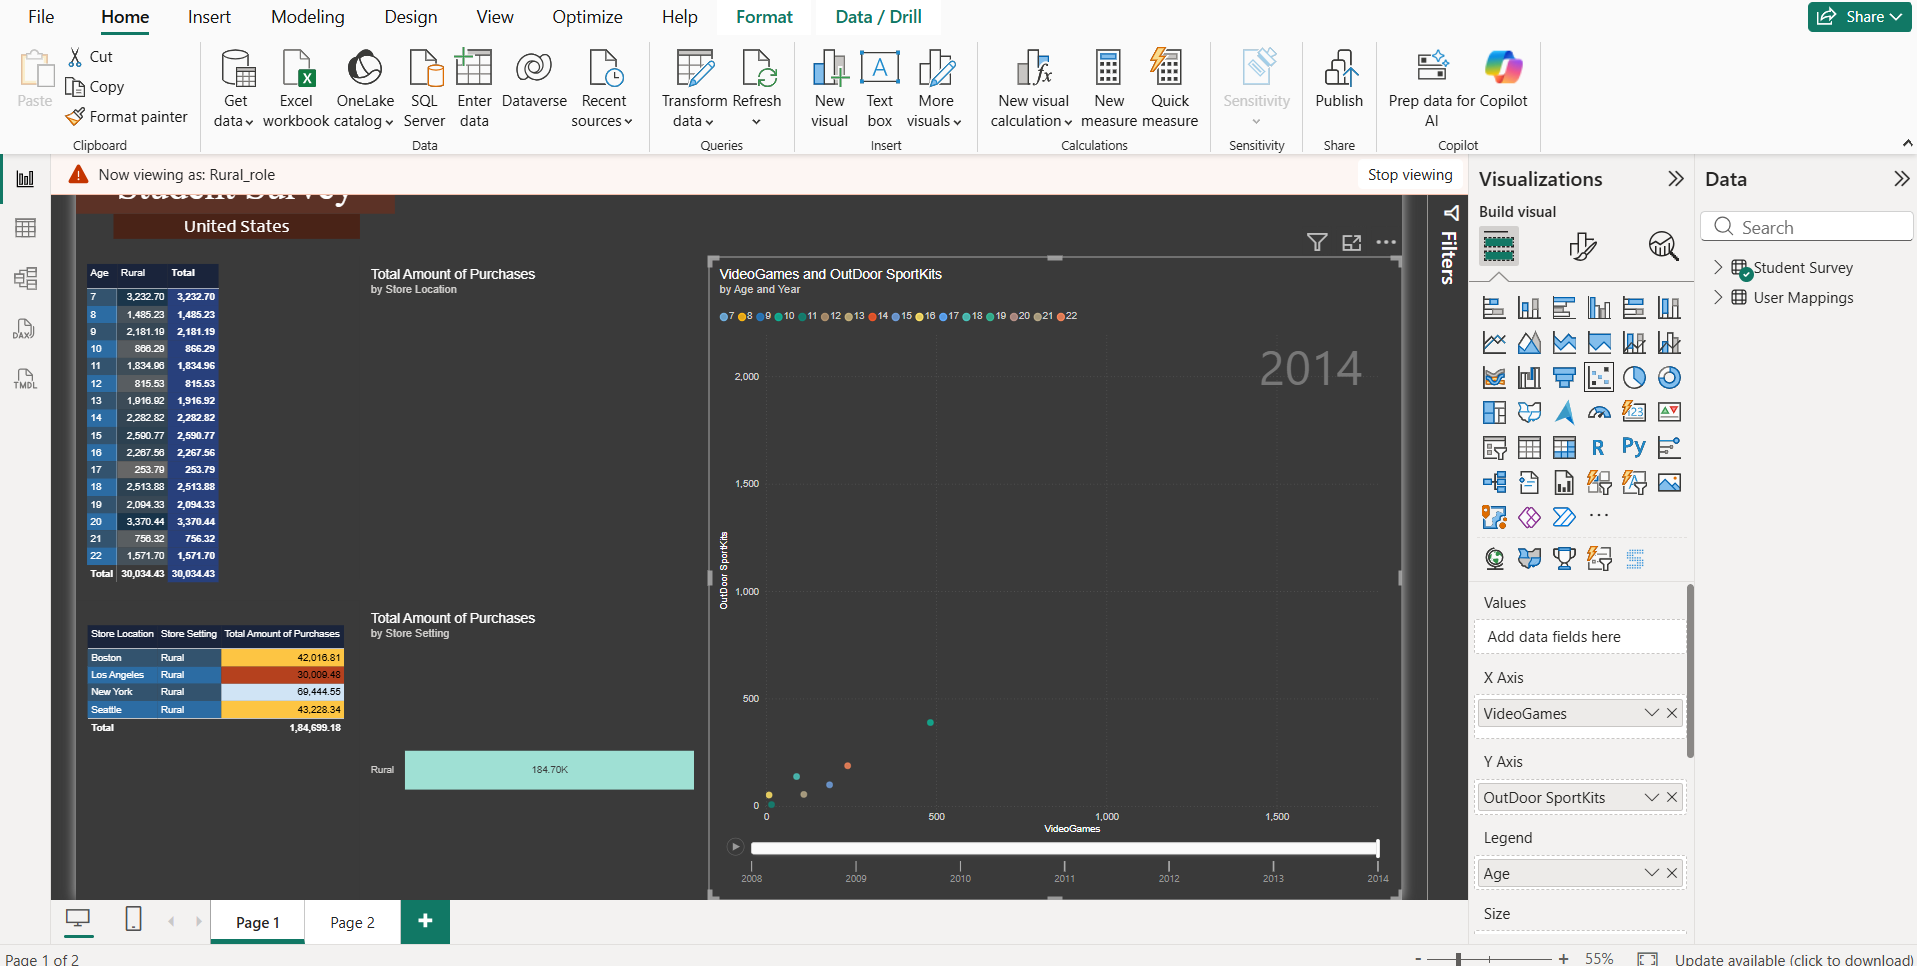

The dashboard page shown, as its layout file describes it:
{"tool":"powerbi","page":{"name":"Page 1","canvas":[1920,1080],"ordinal":0},"visuals":[{"type":"tableEx","fields":{"Values":["Student Survey.Store Location","Student Survey.Store Setting","Sum(Student Survey.Total Amount of Purchases)"]},"box":[0,667.8,410.8,412.6],"z":0},{"type":"pivotTable","fields":{"Columns":["Student Survey.Store Setting"],"Rows":["Student Survey.Age"],"Values":["Sum(Student Survey.OutDoor SportKits)"]},"box":[0,144.8,410.8,501.3],"z":1},{"type":"funnel","fields":{"Category":["Student Survey.Store Setting"],"Y":["Sum(Student Survey.Total Amount of Purchases)"]},"box":[410.8,646,504.9,434.3],"z":2},{"type":"pieChart","fields":{"Category":["Student Survey.Store Location"],"Y":["Sum(Student Survey.Total Amount of Purchases)"]},"box":[410.8,148.4,490.4,466.9],"z":3},{"type":"textbox","box":[0,14.5,461.5,72.4],"z":4},{"type":"textbox","box":[54.3,86.9,356.5,36.2],"z":5},{"type":"scatterChart","fields":{"Play":["Student Survey.Survey Date .Variation.Date Hierarchy.Year"],"Series":["Student Survey.Age"],"X":["Sum(Student Survey.VideoGames)"],"Y":["Sum(Student Survey.OutDoor SportKits)"]},"box":[901.2,0,1018.8,1080.4],"z":6}]}

Visuals, with their boxes on the page's 1920x1080 design canvas (x1, y1, x2, y2). These are canvas units, not pixel positions in the 1917x966 screenshot, which may show the page scaled, cropped or inside an application window:
tableEx - Student Survey.Store Location x Student Survey.Store Setting: crop(0, 668, 411, 1080)
pivotTable - Student Survey.Store Setting x Student Survey.Age: crop(0, 145, 411, 646)
funnel - Student Survey.Store Setting x Sum(Student Survey.Total Amount of Purchases): crop(411, 646, 916, 1080)
pieChart - Student Survey.Store Location x Sum(Student Survey.Total Amount of Purchases): crop(411, 148, 901, 615)
textbox: crop(0, 14, 462, 87)
textbox: crop(54, 87, 411, 123)
scatterChart - Student Survey.Survey Date .Variation.Date Hierarchy.Year x Student Survey.Age: crop(901, 0, 1920, 1080)
